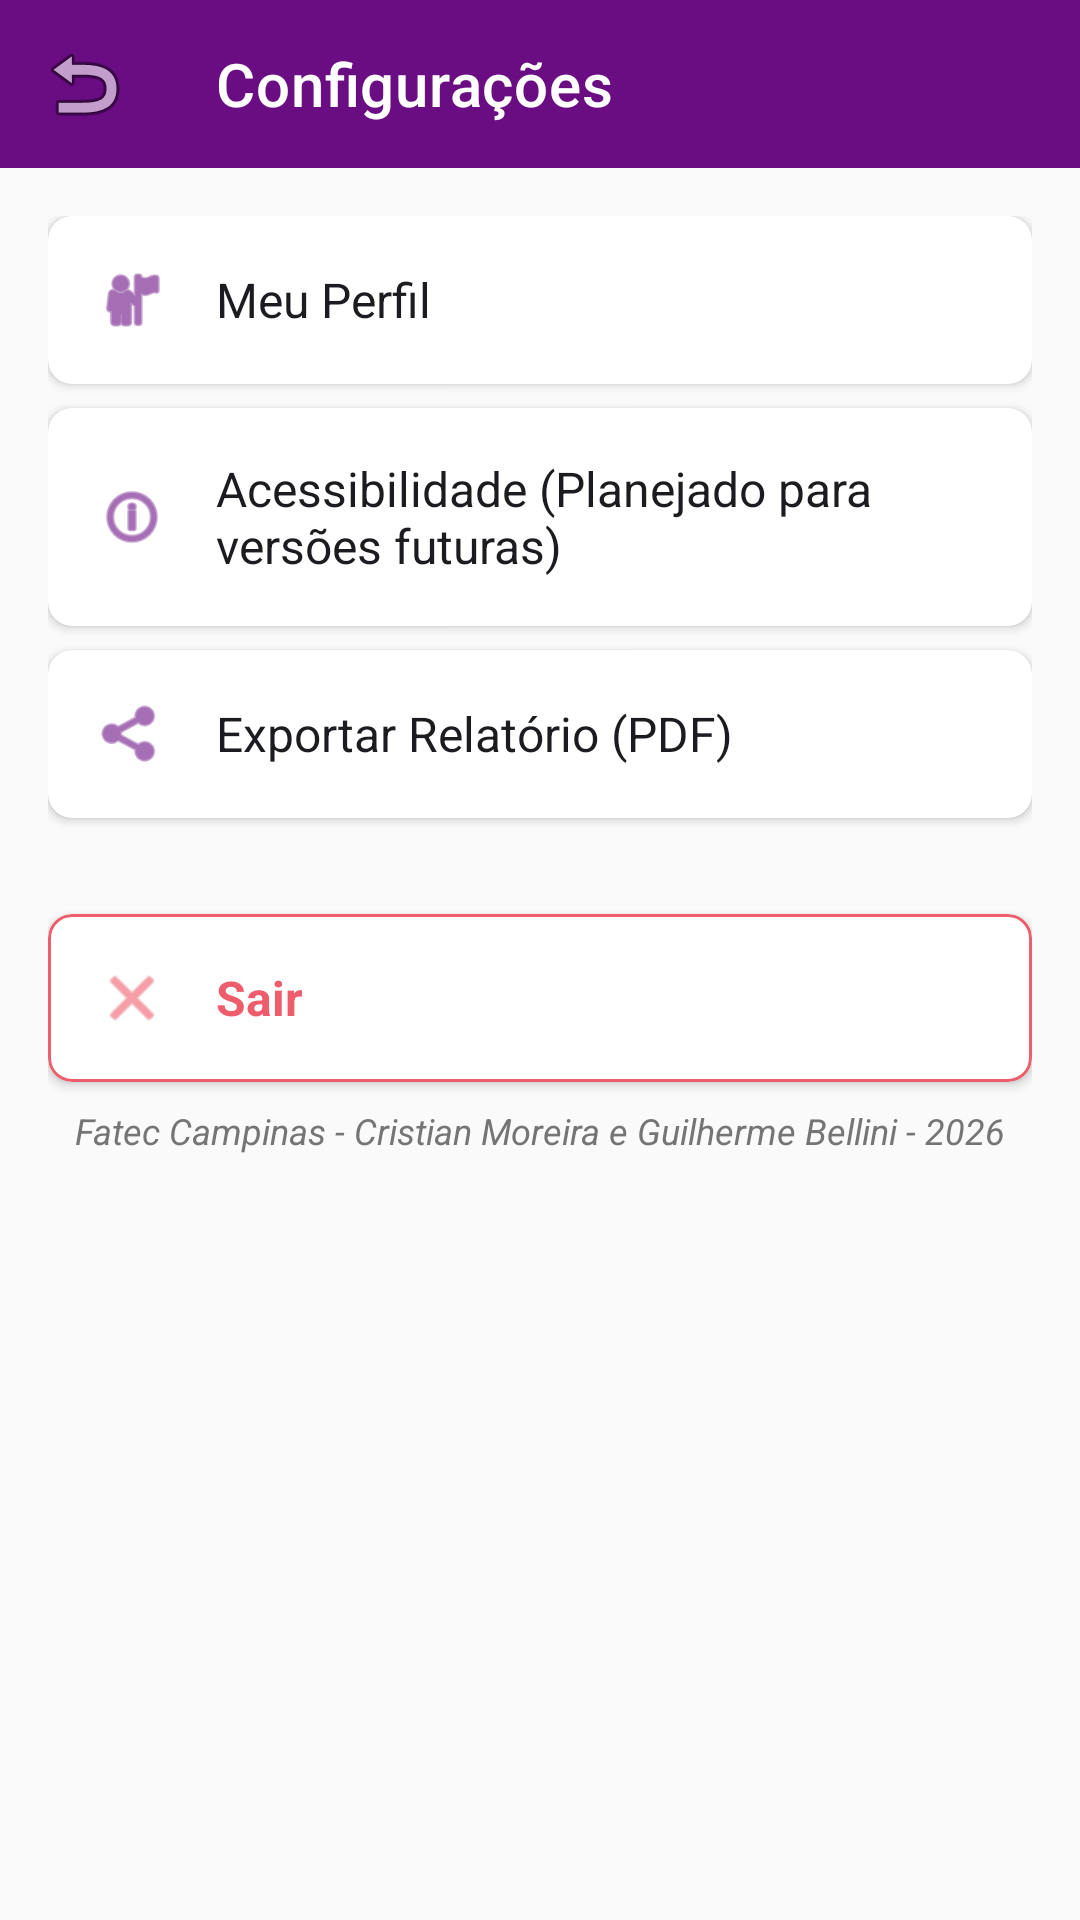

Icon bounding boxes for this 1080 × 1920 phone screenshot, format (left=x1, top=y1, right=x2, bottom=y2):
close clear cancel: (left=110, top=976, right=154, bottom=1020)
info details: (left=106, top=491, right=158, bottom=543)
share: (left=101, top=705, right=155, bottom=762)
